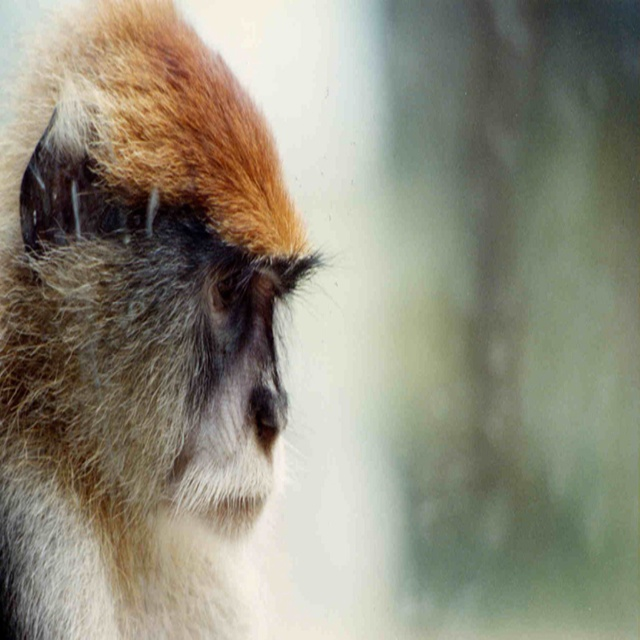Monkey: (0, 0, 338, 639)
